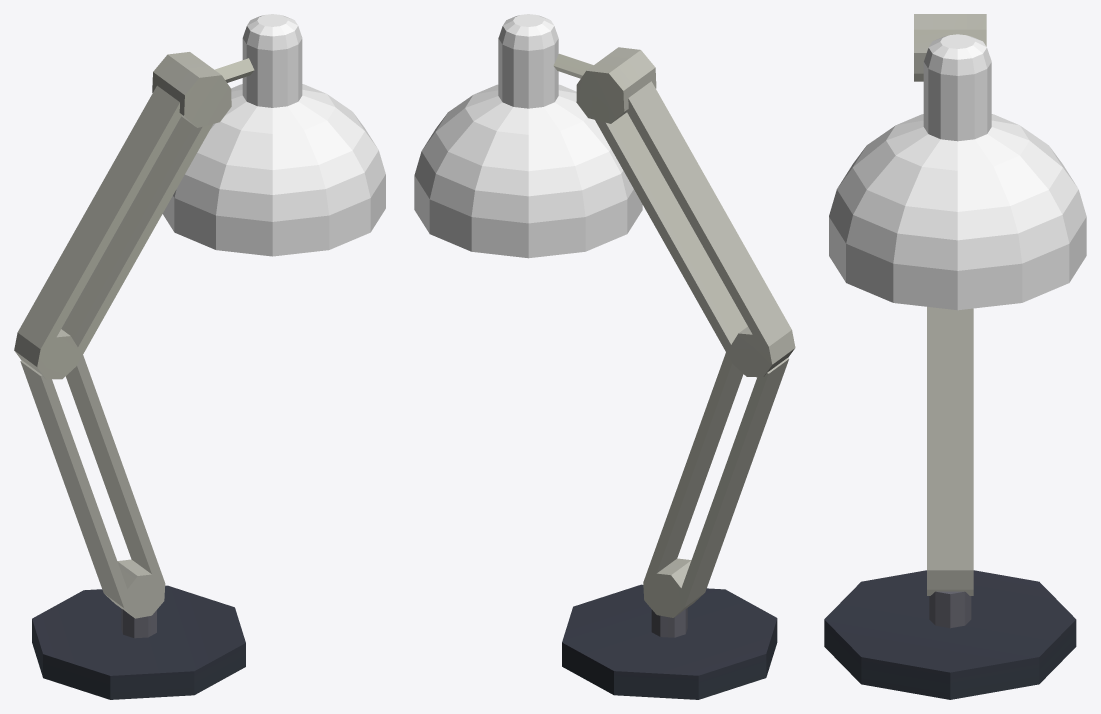
The model's file is lomp.fbx.
3 renders of one model, left to right at view 1: azimuth 30°, elevation 25°; view 2: azimuth 150°, elevation 25°; view 3: azimuth 270°, elevation 25°, orthographic. The views are drawn at different scales.
Visible parts, largest first — view 1: Cube.021; view 2: Cube.021; view 3: Cube.021.
Boxes of the visible parts, box(x1,y1,x2,y2) form: Cube.021: box(14, 14, 385, 699); Cube.021: box(414, 14, 795, 699); Cube.021: box(824, 14, 1086, 699).
Bounding box in the file's own units: 106 × 174 × 60.9.
